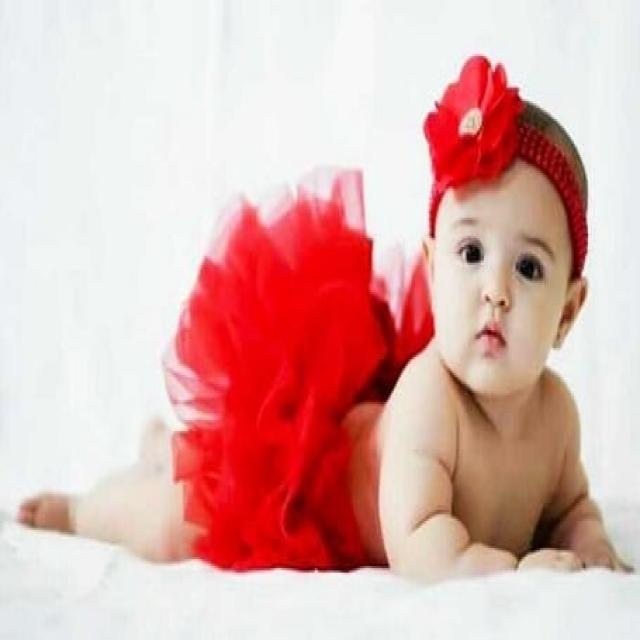non-dog: (10, 42, 626, 588)
